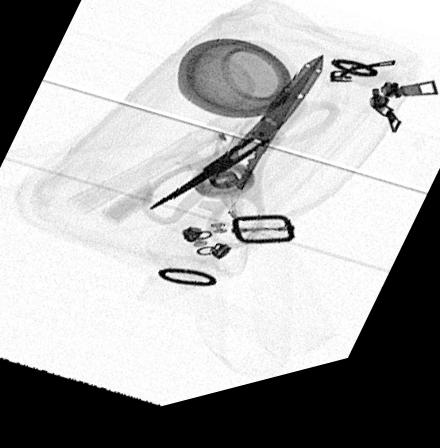Scissors: (137, 69, 326, 263)
